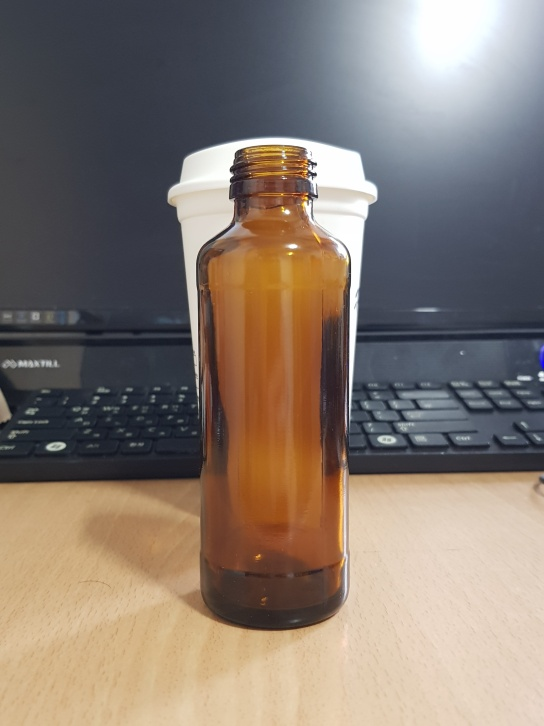Glass: (191, 143, 355, 632)
